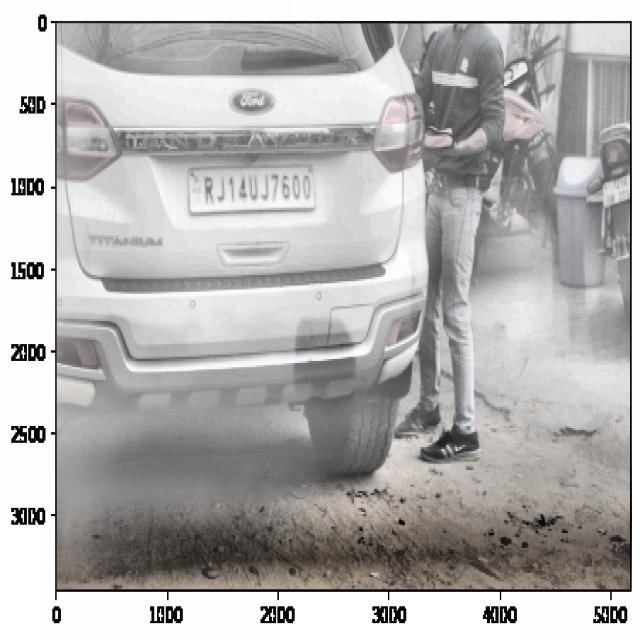license_plate: (200, 167, 316, 212)
